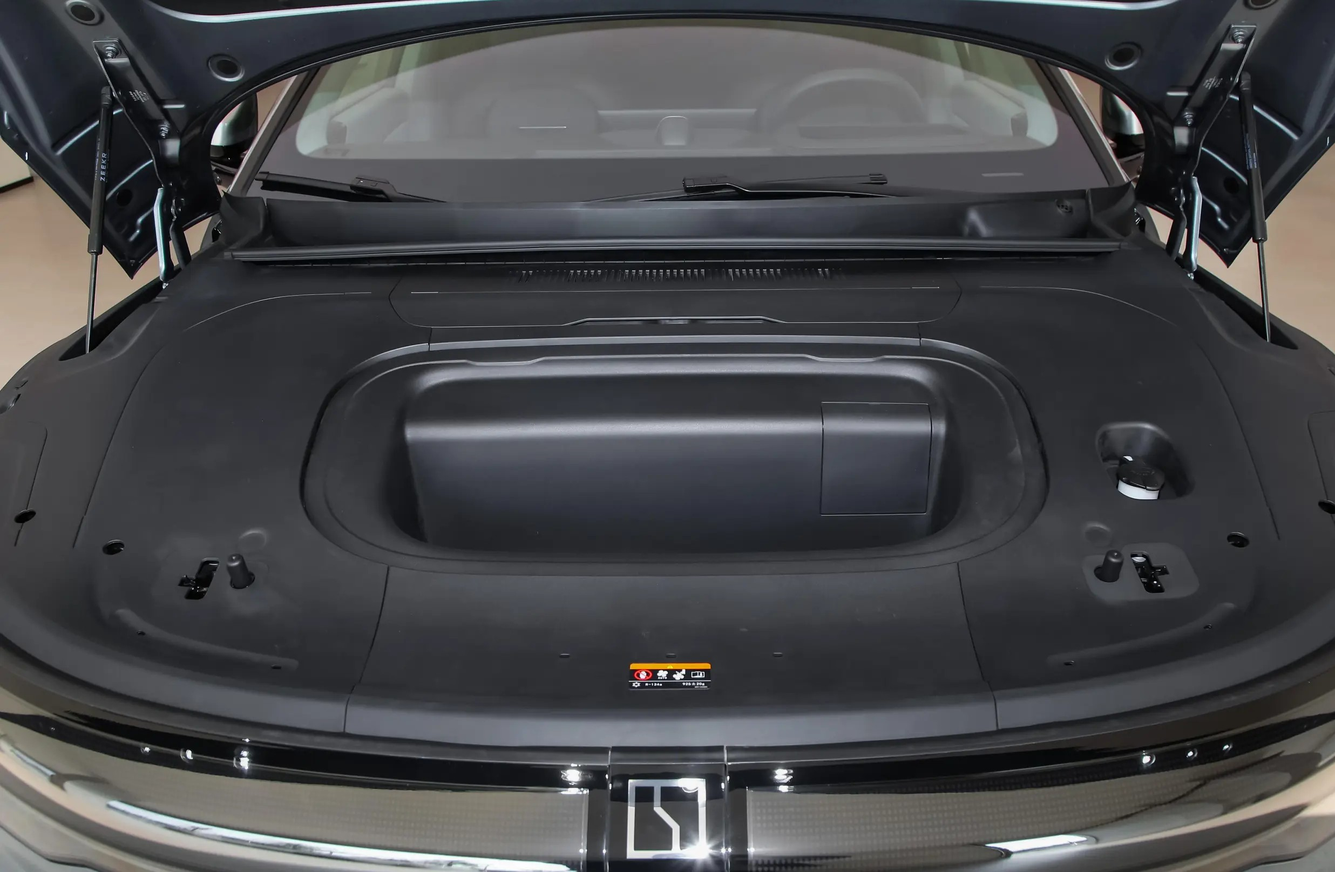ZEEKR: (627, 779, 704, 859)
